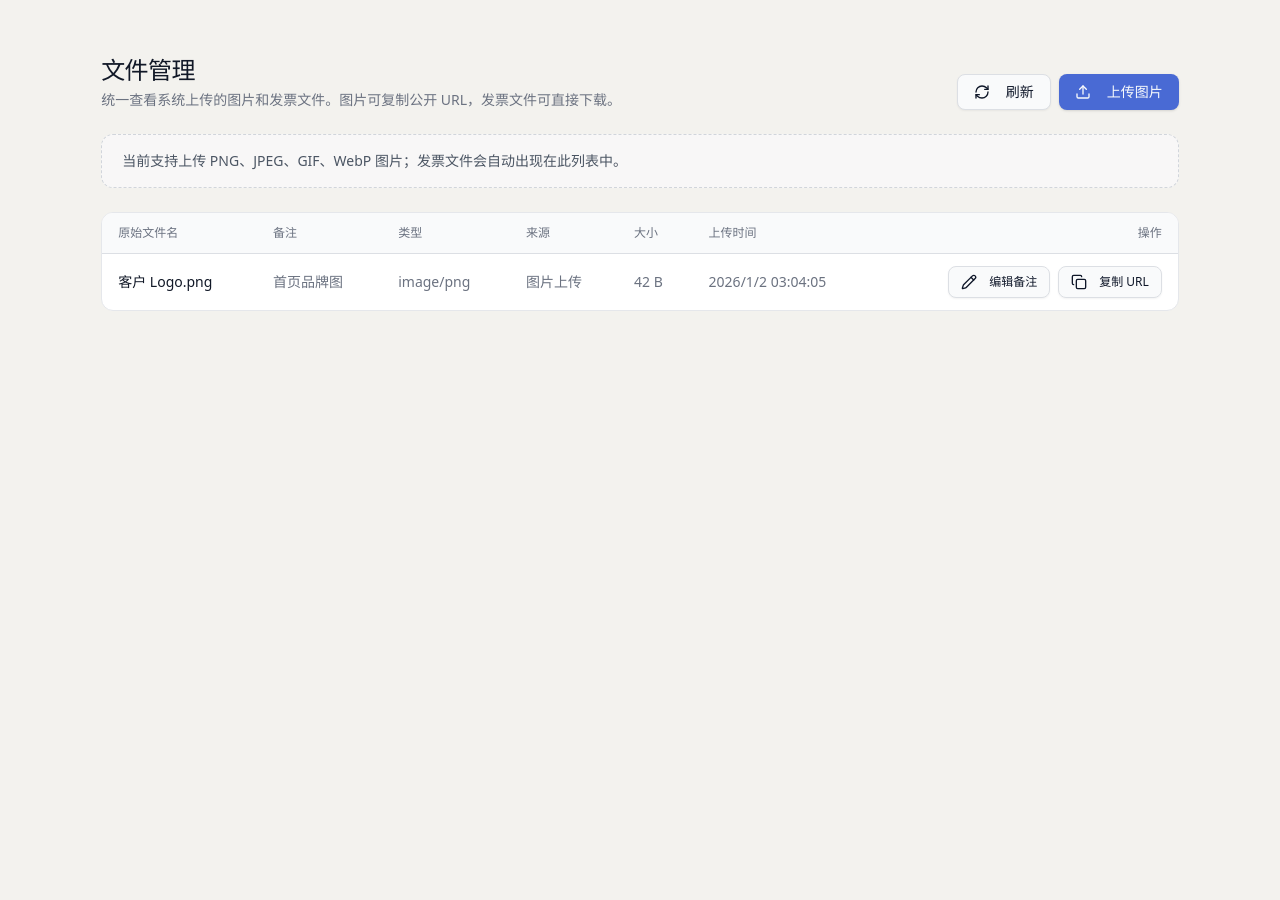
Test case: FileManagementPage › edits and saves a file note
Expected: the text "首页品牌图" is shown, [257,254,382,310]
Click the button "编辑备注" at coordinates (999, 282), box [948,266,1050,298]
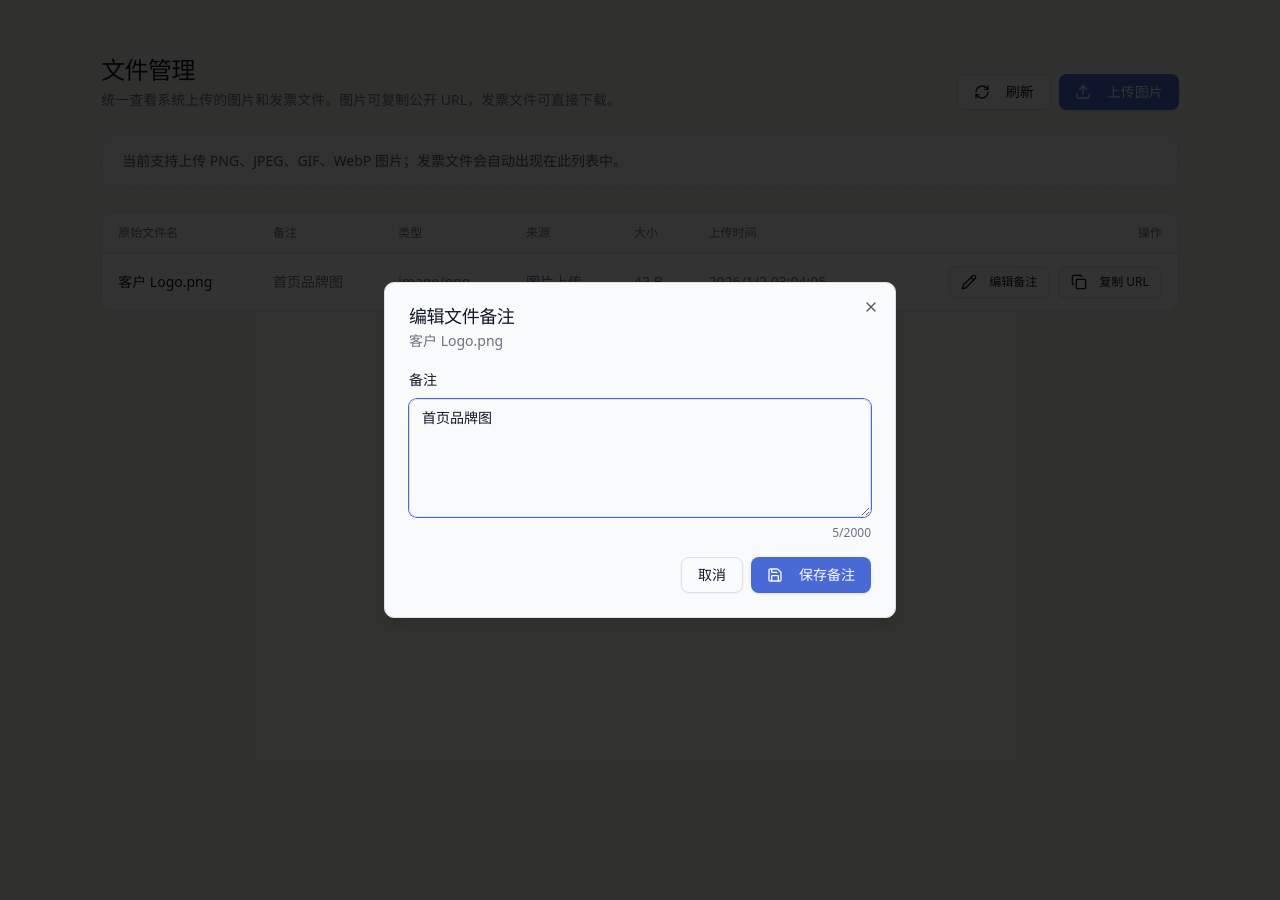
Replace the text in the text box labelled "备注" with "新备注" at coordinates (640, 458), box [409,399,871,517]
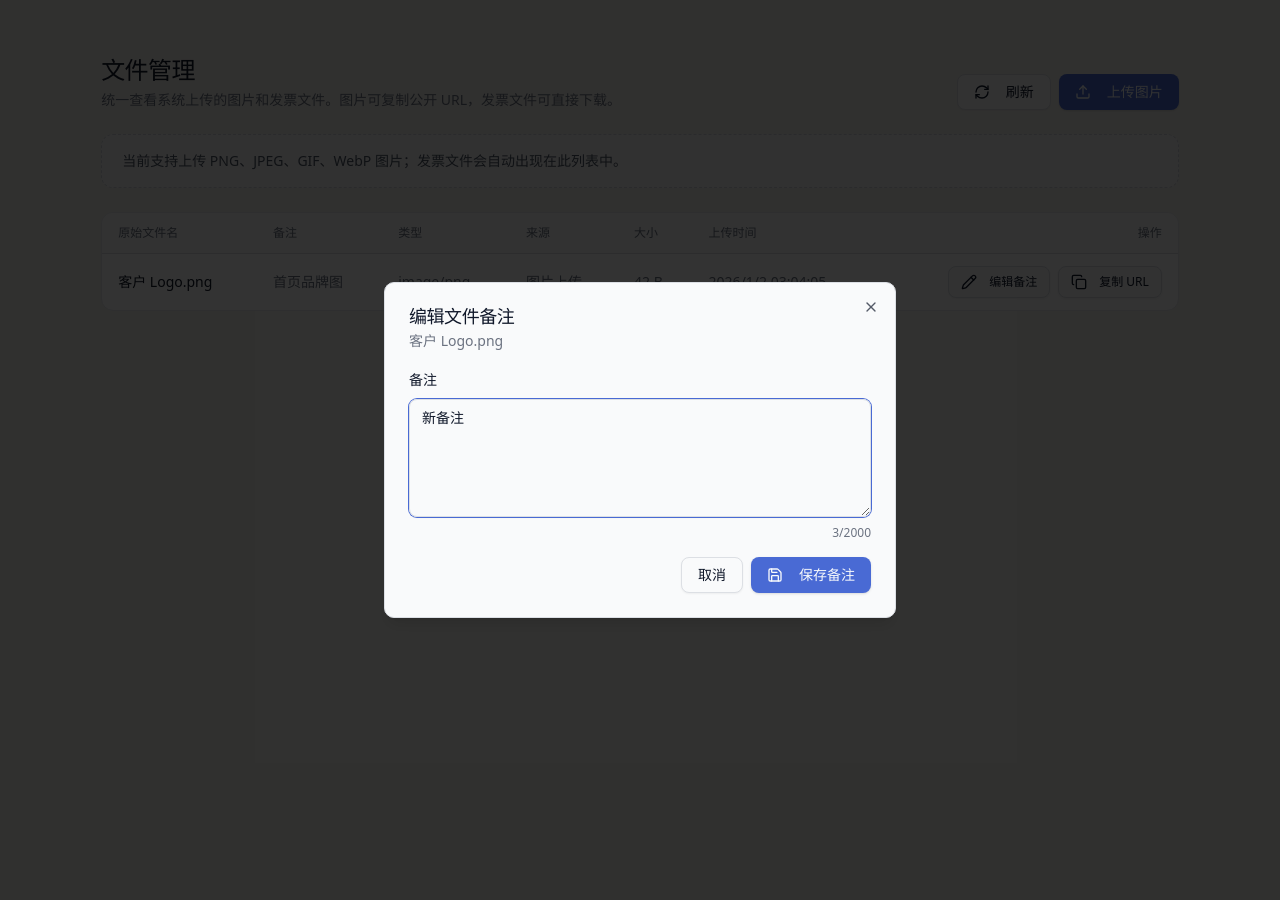
Click the button "保存备注" at coordinates (811, 575), box [751,557,871,593]
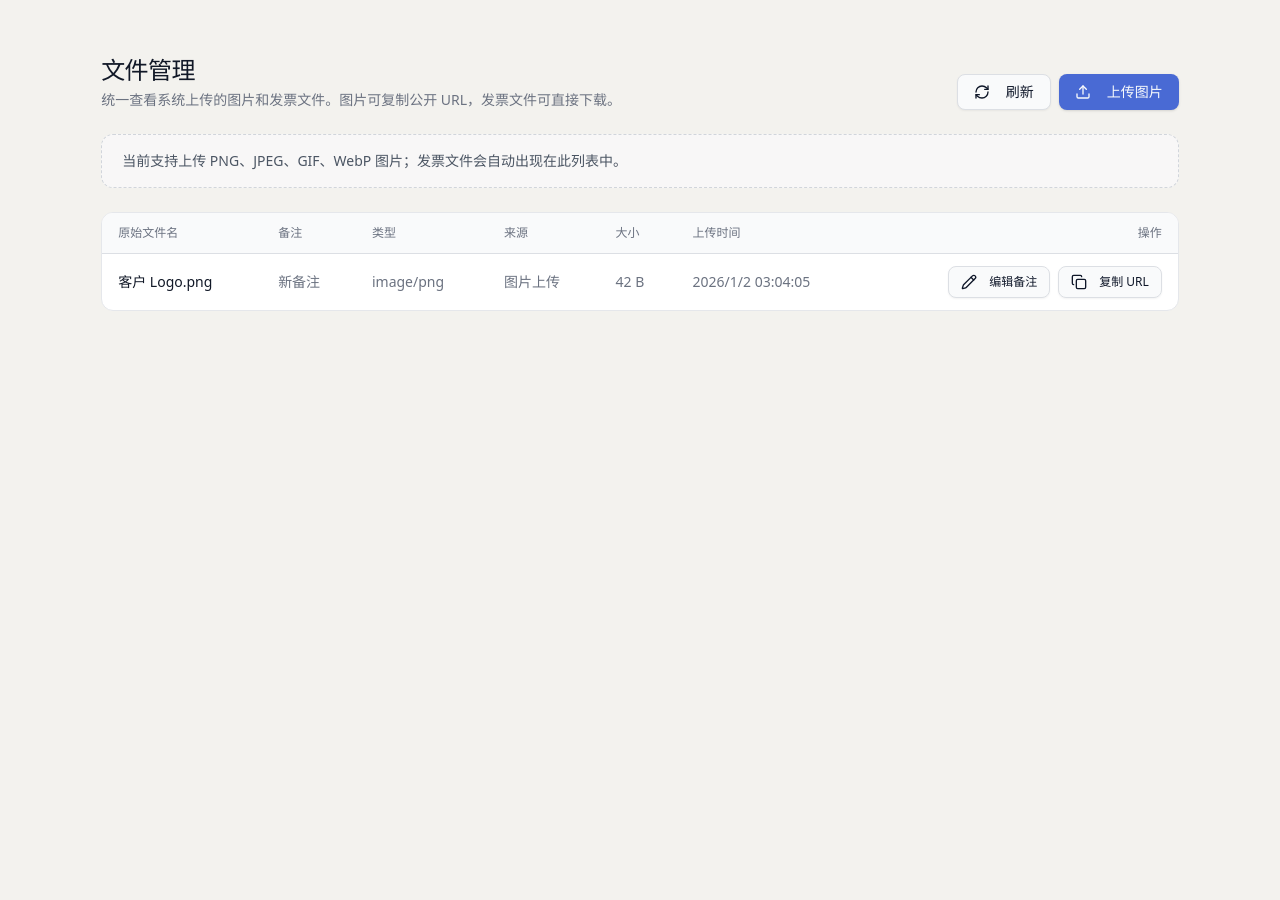
Expected: the text "新备注" is shown, [262,254,356,310]
Expected: the dialog is gone
